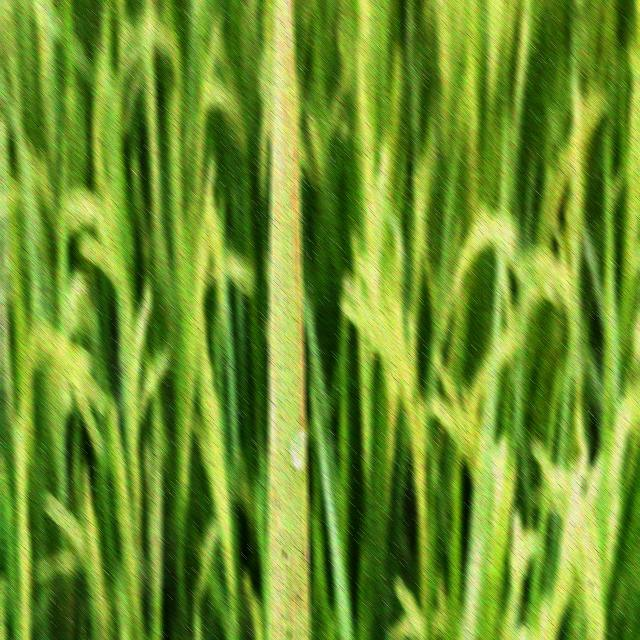NBS: (277, 15, 282, 192), (289, 170, 296, 284), (299, 302, 304, 438), (283, 26, 287, 176), (274, 491, 278, 640), (271, 357, 276, 463), (303, 531, 307, 640), (275, 173, 277, 342), (291, 564, 295, 640), (296, 209, 299, 295), (293, 125, 297, 160), (300, 629, 302, 640)
